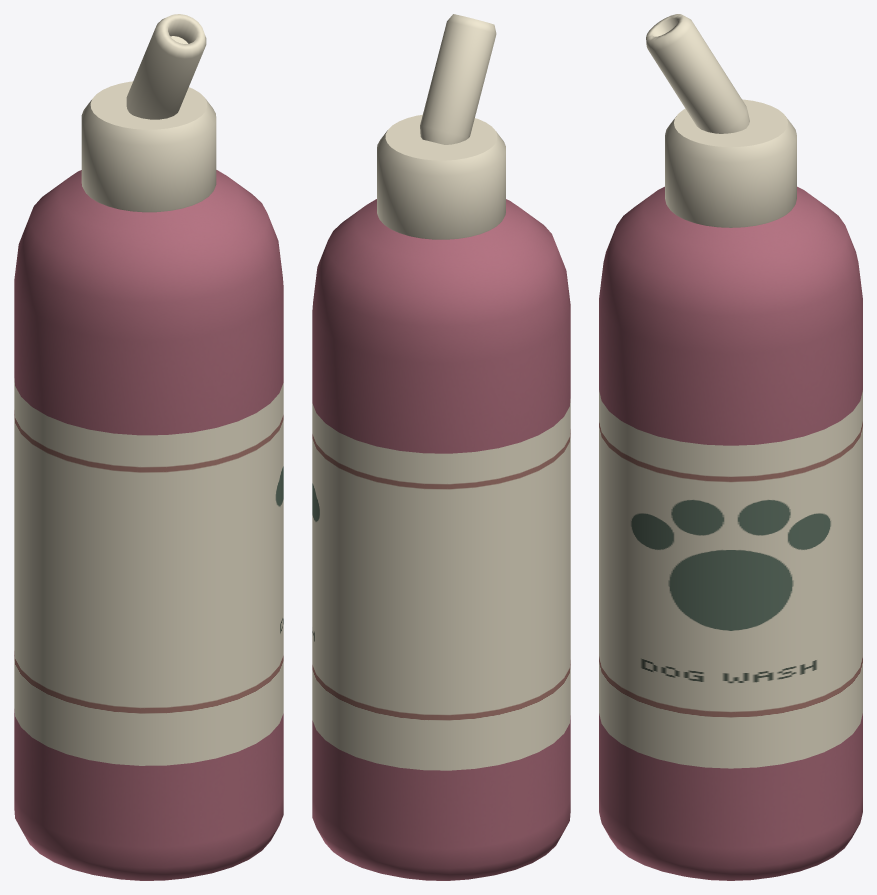
File: Bottle.fbx
3 renders of one model, left to right at view 1: azimuth 30°, elevation 25°; view 2: azimuth 150°, elevation 25°; view 3: azimuth 270°, elevation 25°, orthographic. The views are drawn at different scales.
Parts seen in each view (by area): view 1: Bottle; view 2: Bottle; view 3: Bottle.
Boxes of the visible parts, x1,y1,x2,y2 form: Bottle: (14, 14, 283, 880); Bottle: (312, 14, 570, 880); Bottle: (599, 14, 862, 880).
Bounding box in the file's own units: 6 × 20.55 × 6.
1 material, 1 textured.
